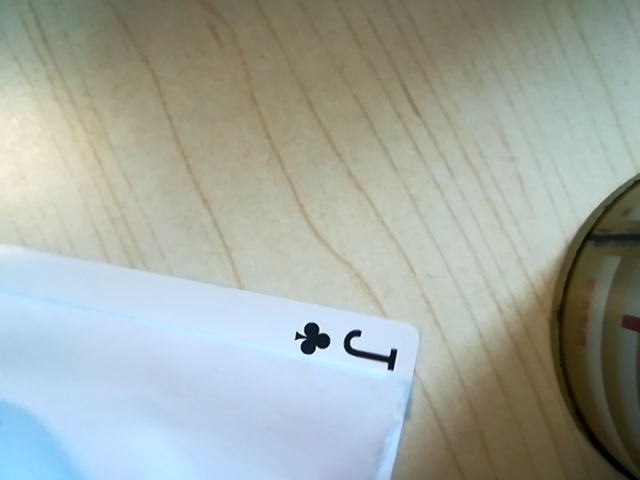mh j: (271, 315, 414, 379)
